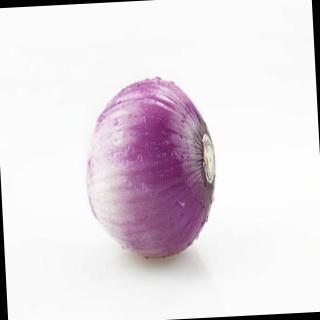Bawang Merah: (79, 73, 223, 266)
